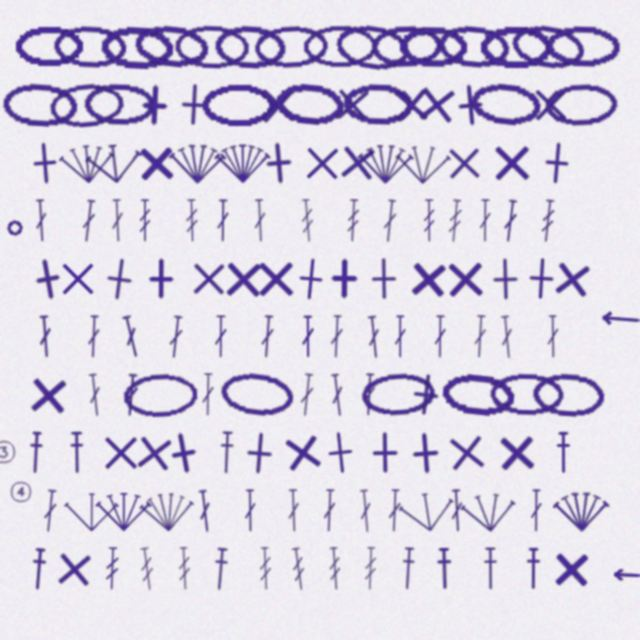chain: (333, 20, 413, 74), (508, 20, 587, 74), (132, 21, 210, 72), (218, 369, 295, 420), (48, 80, 126, 130), (468, 79, 544, 130), (439, 370, 516, 420), (436, 22, 512, 72), (273, 80, 347, 129), (1, 81, 78, 128), (360, 371, 437, 418), (253, 24, 330, 70), (213, 23, 288, 70), (122, 372, 198, 418), (531, 371, 605, 418), (52, 24, 127, 70), (99, 24, 174, 70), (544, 82, 619, 128), (489, 372, 565, 417), (174, 24, 249, 69), (545, 24, 620, 69), (370, 24, 444, 69), (83, 82, 157, 127), (342, 82, 415, 127), (303, 25, 377, 68), (201, 83, 275, 126), (479, 25, 552, 68), (398, 25, 469, 69), (14, 25, 85, 68)
double: (119, 314, 143, 359), (79, 199, 98, 243), (501, 199, 520, 243), (328, 373, 347, 417), (381, 199, 399, 243), (167, 315, 185, 359), (365, 315, 383, 359), (498, 315, 516, 359), (86, 373, 104, 417), (122, 373, 140, 417), (298, 373, 316, 417), (41, 489, 59, 533), (196, 489, 214, 533), (36, 315, 54, 358), (357, 489, 374, 533), (259, 315, 276, 358), (33, 199, 49, 242), (252, 199, 268, 242), (472, 315, 488, 358), (361, 373, 377, 416), (449, 489, 465, 532), (110, 199, 125, 242), (86, 315, 101, 358), (213, 315, 228, 358), (329, 315, 344, 358), (286, 489, 301, 532), (322, 489, 337, 532), (387, 489, 402, 532), (216, 199, 230, 242), (478, 199, 492, 242), (301, 315, 315, 358), (393, 315, 407, 358), (433, 315, 447, 358), (546, 315, 560, 358), (201, 373, 215, 416), (243, 489, 257, 532), (529, 489, 543, 532)
fan: (396, 485, 458, 536), (84, 138, 145, 187), (458, 487, 519, 535), (57, 139, 117, 186), (137, 487, 197, 534), (394, 141, 452, 185), (169, 141, 226, 185), (357, 141, 414, 185), (553, 489, 610, 533), (214, 141, 271, 184), (63, 489, 120, 532), (95, 489, 152, 532)
half_double: (29, 547, 48, 591), (211, 547, 230, 591), (27, 431, 45, 474), (399, 547, 417, 590), (435, 547, 453, 590), (68, 431, 85, 474), (218, 431, 235, 474), (482, 547, 499, 590), (555, 431, 571, 474), (525, 547, 541, 590)
noise: (599, 309, 640, 328), (8, 479, 33, 504), (0, 438, 18, 466), (5, 218, 24, 237), (611, 569, 640, 581)
single: (23, 254, 73, 304), (158, 428, 208, 478), (278, 428, 327, 477), (95, 255, 143, 303), (548, 255, 596, 303), (130, 429, 178, 477), (413, 81, 460, 128), (334, 139, 381, 186), (402, 371, 449, 418), (317, 429, 364, 476), (443, 429, 490, 476), (388, 82, 434, 128), (447, 82, 493, 128), (22, 140, 68, 186), (256, 140, 302, 186), (534, 140, 580, 186), (288, 256, 334, 302), (405, 256, 451, 302), (25, 372, 71, 418), (236, 430, 282, 476), (402, 430, 448, 476), (51, 546, 97, 592), (171, 82, 216, 127), (255, 82, 300, 127), (330, 82, 375, 127), (519, 256, 564, 301), (494, 430, 539, 475), (132, 83, 176, 127), (134, 141, 178, 185), (300, 141, 344, 185), (442, 141, 486, 185), (221, 257, 265, 301), (443, 257, 487, 301), (483, 257, 527, 301), (549, 547, 593, 591), (529, 83, 572, 126), (490, 141, 533, 184), (56, 257, 99, 300), (139, 257, 182, 300), (187, 257, 230, 300), (254, 257, 297, 300), (323, 257, 366, 300), (362, 257, 405, 300), (99, 431, 142, 474), (363, 431, 406, 474)
treble: (137, 547, 157, 591), (289, 547, 308, 591), (446, 199, 464, 243), (539, 199, 557, 243), (299, 199, 316, 242), (184, 199, 200, 242), (345, 199, 361, 242), (104, 547, 120, 590), (327, 547, 343, 590), (177, 547, 192, 590), (258, 547, 273, 590), (363, 547, 378, 590), (138, 199, 152, 242), (422, 199, 436, 242)
